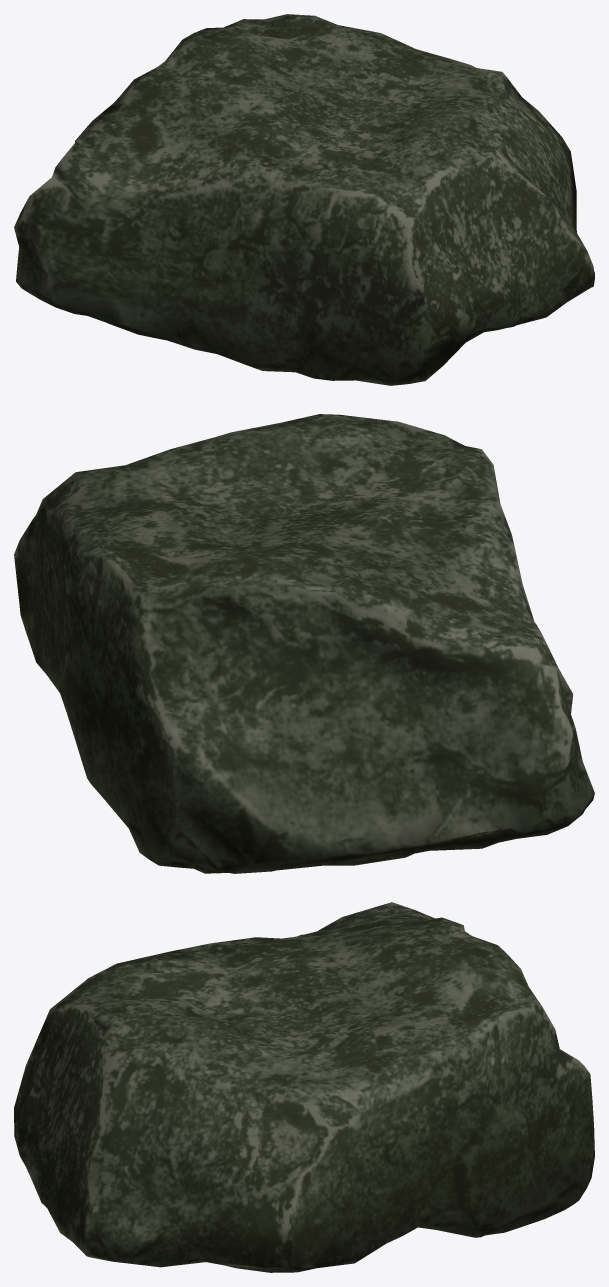
The model's file is mm8_deco_rock56.glb.
3 views of the same model, one above another, from view 1: azimuth 30°, elevation 25°; view 2: azimuth 150°, elevation 25°; view 3: azimuth 270°, elevation 25° (orthographic). The views are drawn at different scales.
Parts seen in each view (by area): view 1: Rock56; view 2: Rock56; view 3: Rock56.
Part boxes in pixels (x1=…): Rock56: x1=14, y1=14, x2=594, y2=385; Rock56: x1=14, y1=414, x2=594, y2=873; Rock56: x1=14, y1=902, x2=594, y2=1272.
Size of the model in its own units: 1.5 by 0.6607 by 1.34.
1 material, 1 textured.
